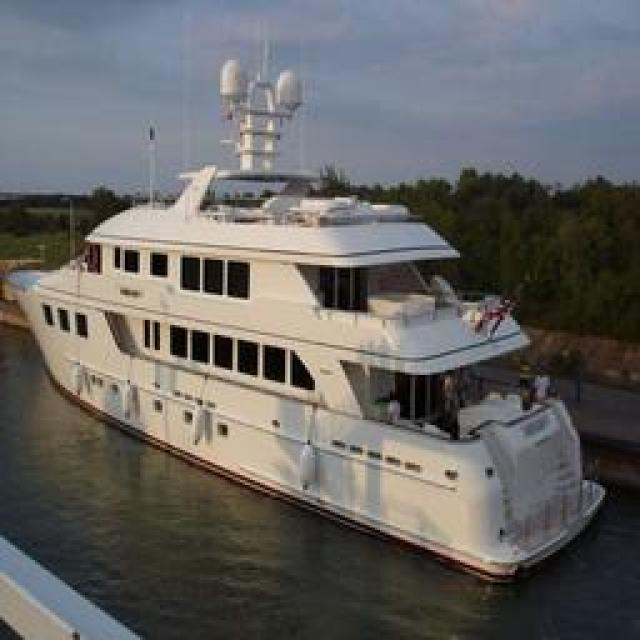ship2: (6, 25, 607, 585)
